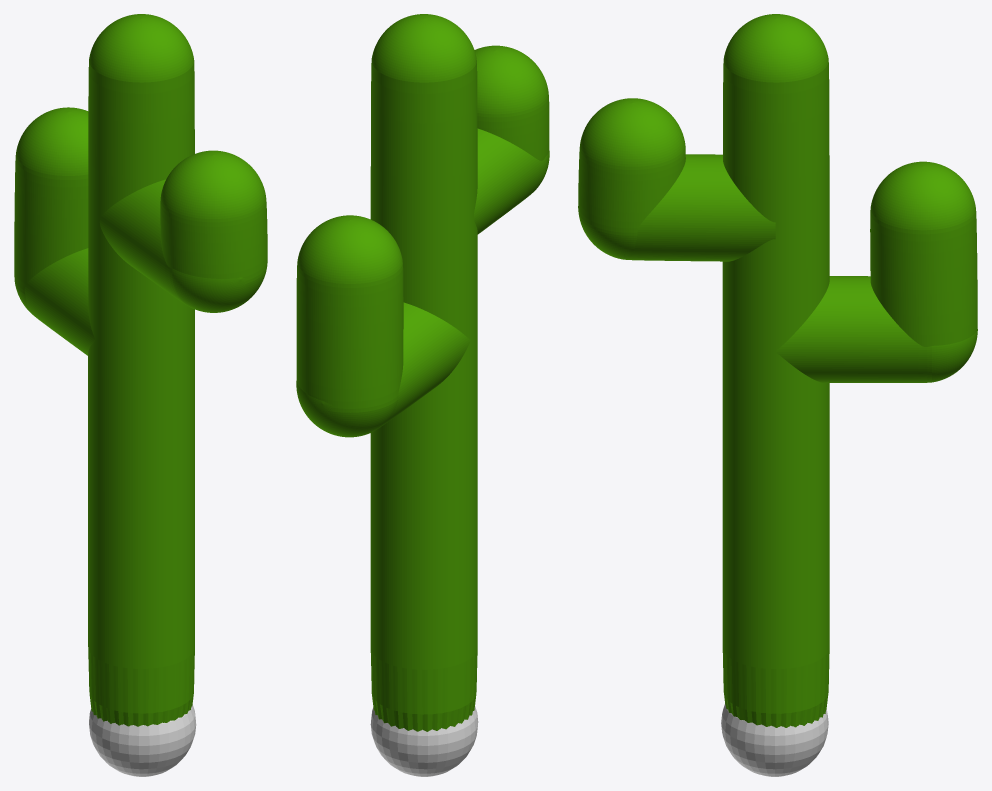
The model's file is cactus2.fbx.
3 renders of one model, left to right at view 1: azimuth 30°, elevation 25°; view 2: azimuth 150°, elevation 25°; view 3: azimuth 270°, elevation 25°, orthographic.
Visible parts, largest first — view 1: Sphere, Sphere.001; view 2: Sphere, Sphere.001; view 3: Sphere, Sphere.001.
Boxes of the visible parts, x1,y1,x2,y2 form: Sphere: (14, 14, 267, 726); Sphere.001: (89, 705, 196, 776); Sphere: (296, 14, 549, 731); Sphere.001: (370, 706, 478, 776); Sphere: (578, 14, 977, 727); Sphere.001: (721, 704, 828, 776).
Size of the model in its own units: 100 by 772 by 372.
